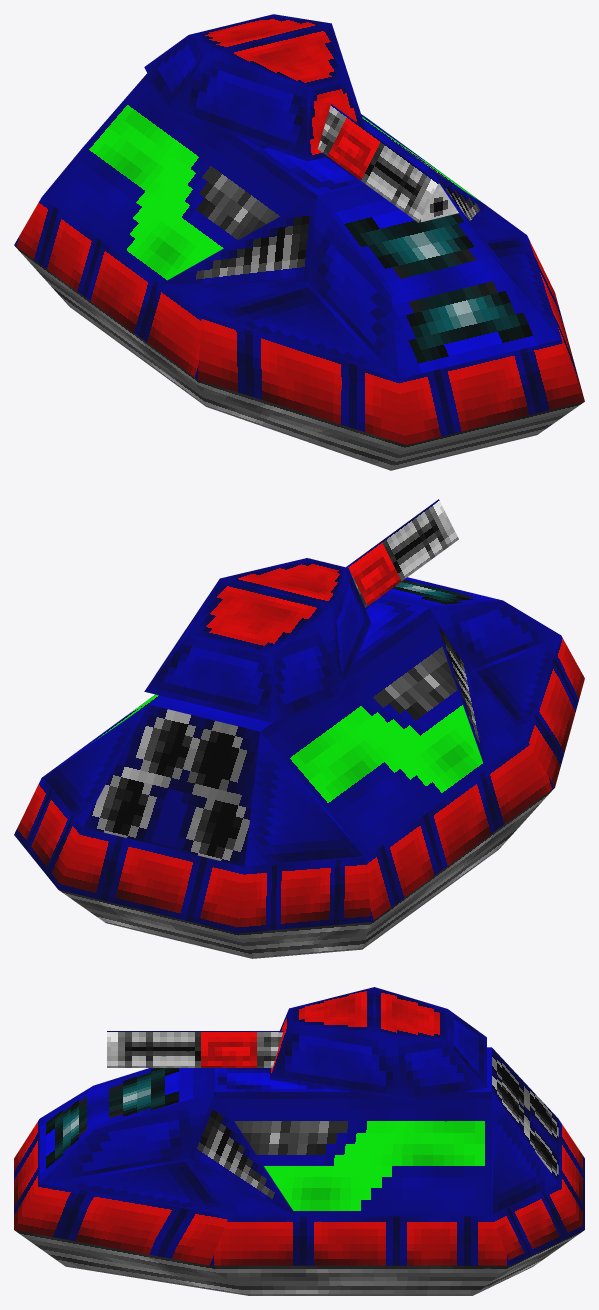
The model's file is centipede.glb.
The picture shows the model from 3 angles, top to bottom: view 1: azimuth 30°, elevation 25°; view 2: azimuth 150°, elevation 25°; view 3: azimuth 270°, elevation 25°; orthographic projection. The views are drawn at different scales.
Visible parts, largest first — view 1: Centipede, Centipede_turret; view 2: Centipede, Centipede_turret; view 3: Centipede, Centipede_turret.
Boxes of the visible parts, x1,y1,x2,y2 form: Centipede: (14,73,584,470); Centipede_turret: (144,14,458,222); Centipede: (14,577,584,958); Centipede_turret: (144,499,458,722); Centipede: (14,1047,584,1295); Centipede_turret: (107,987,486,1101).
Size of the model in its own units: 3.14 by 2.34 by 5.31.
1 material, 1 textured.
